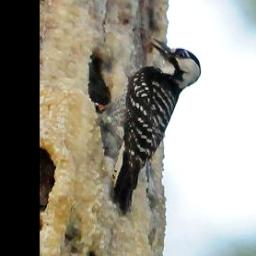Woodpecker: (95, 37, 204, 215)
